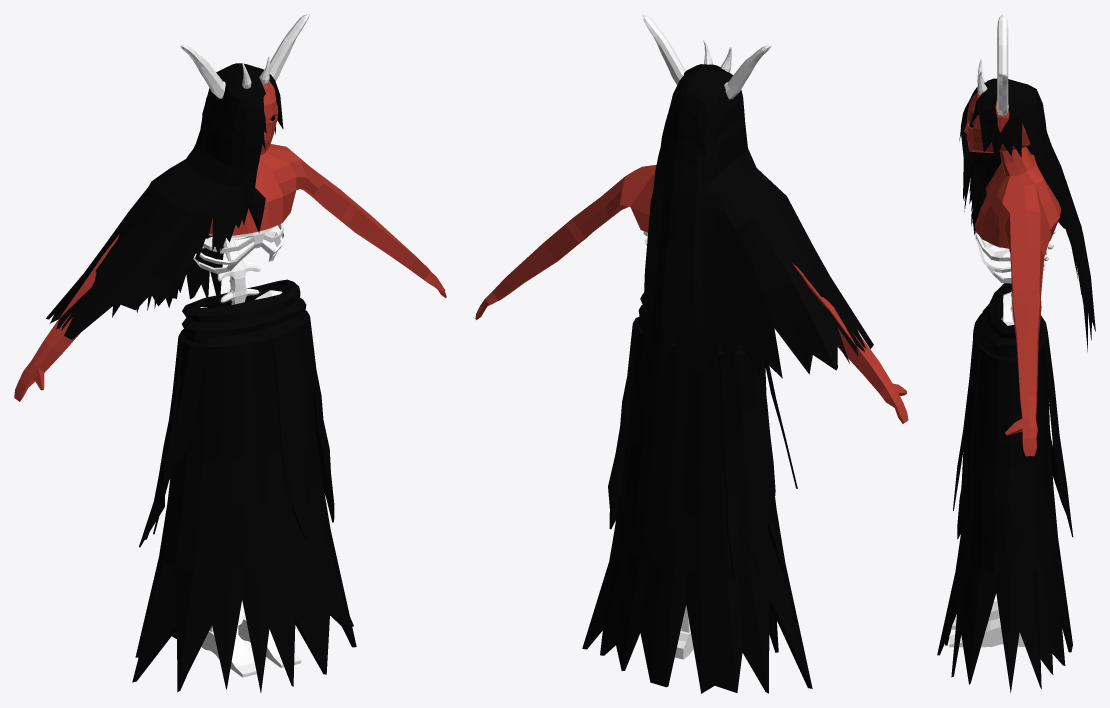
The model's file is cursed_queen.fbx.
3 renders of one model, left to right at view 1: azimuth 30°, elevation 25°; view 2: azimuth 150°, elevation 25°; view 3: azimuth 270°, elevation 25°, orthographic. The views are drawn at different scales.
Visible parts, largest first — view 1: cursed_queen; view 2: cursed_queen; view 3: cursed_queen.
Part boxes in pixels (left/top/right/bottom): cursed_queen: left=14, top=14, right=446, bottom=692; cursed_queen: left=475, top=14, right=908, bottom=693; cursed_queen: left=937, top=14, right=1095, bottom=693.
Bounding box in the file's own units: 190 × 270 × 64.
